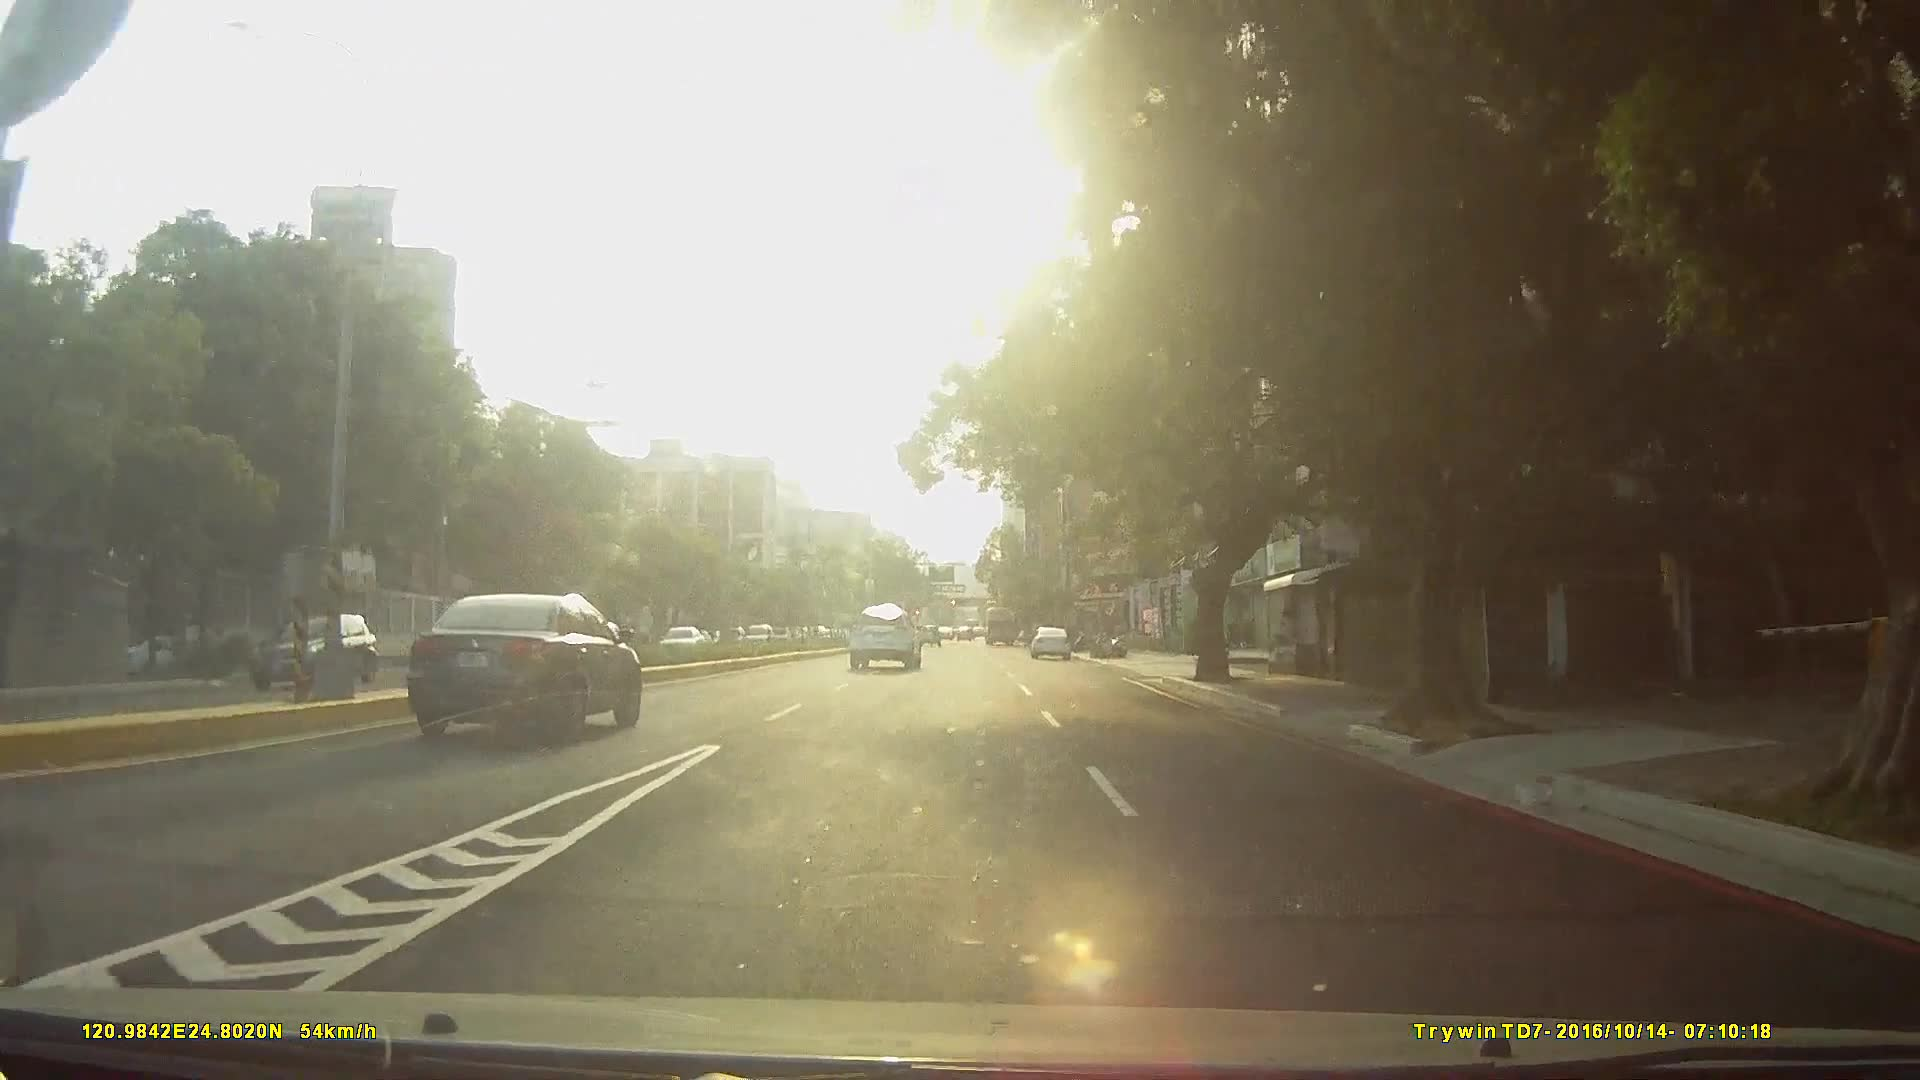pedestrian: (293, 623, 318, 675)
vehicle: (410, 589, 647, 742), (216, 615, 385, 706), (846, 605, 924, 673), (1028, 624, 1072, 662), (982, 605, 1019, 648)
